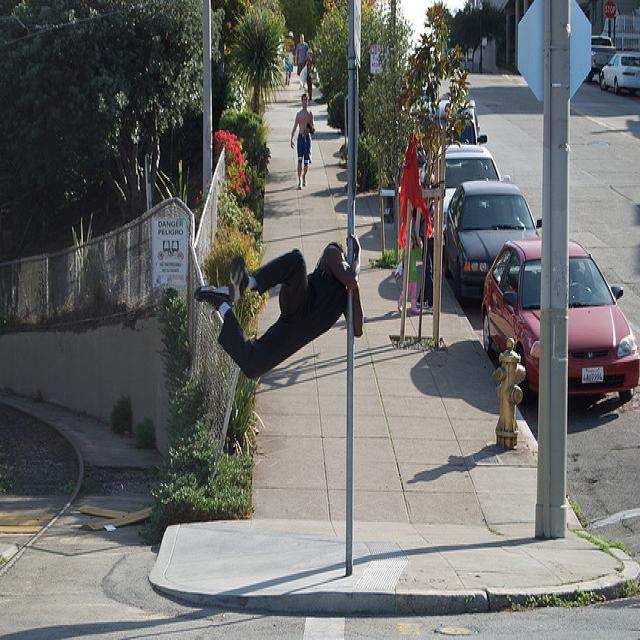Vehicle: (482, 235, 640, 415), (445, 180, 542, 305), (438, 150, 492, 227), (599, 55, 640, 95), (586, 36, 617, 82)
